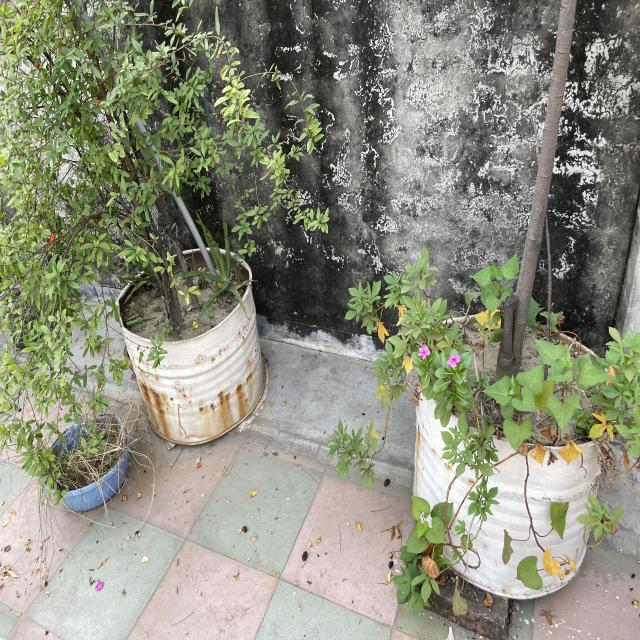Breeding Place: (416, 309, 601, 600), (118, 232, 276, 448), (41, 423, 132, 509)
